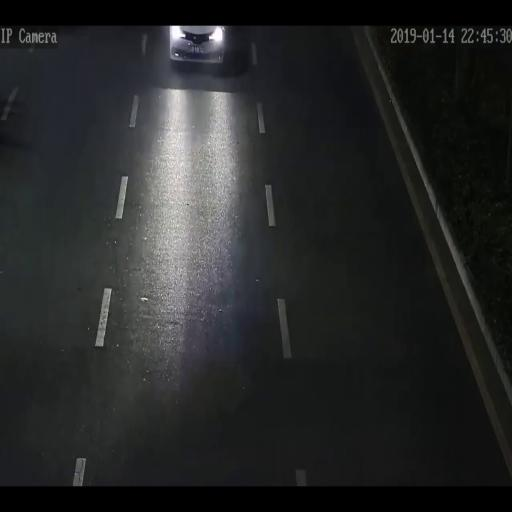License plate: (189, 44, 204, 54)
Vehicle: (168, 25, 226, 66)
